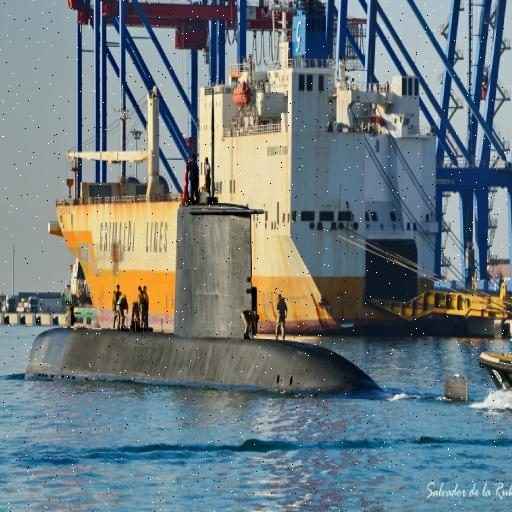submarine: (28, 203, 388, 392)
